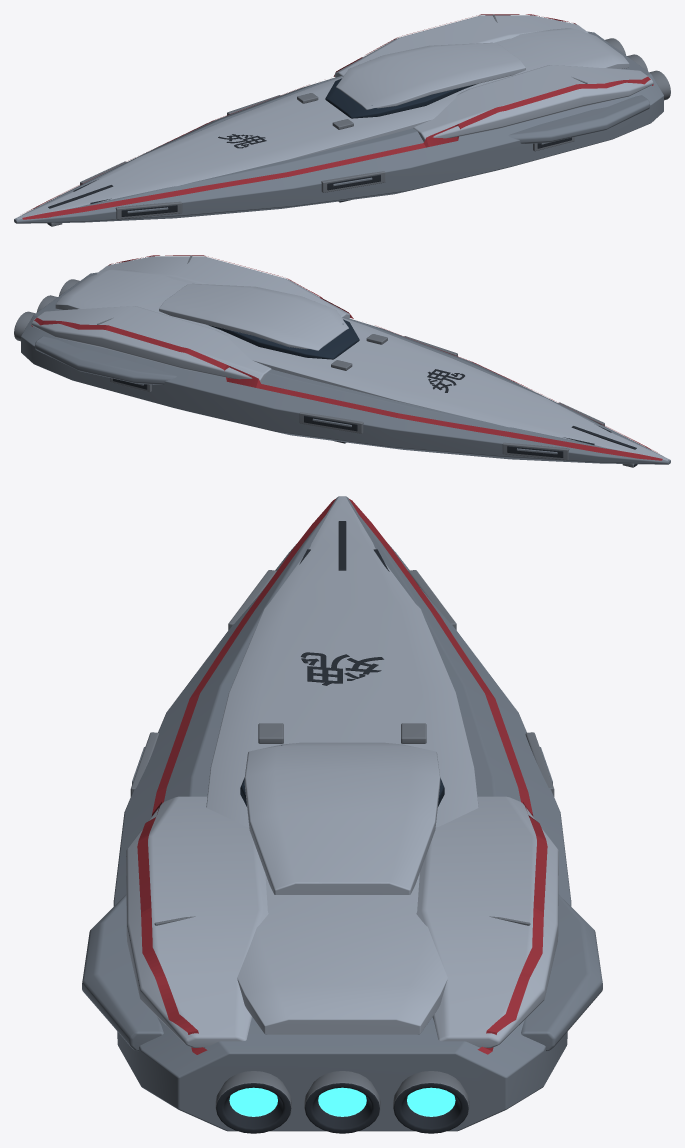
Rendered from wei-fast.glb.
3 views of the same model, one above another, from view 1: azimuth 30°, elevation 25°; view 2: azimuth 150°, elevation 25°; view 3: azimuth 270°, elevation 25° (orthographic). The views are drawn at different scales.
Visible parts, largest first — view 1: Continuous beveled cutter hull, Raised tapered silver foredeck, Faceted silver aft shoulder, Silver cockpit canopy, Faceted silver aft shoulder.001, Continuous hull-conforming oxblood stripe, Aft RCS shoulder fin, Swept cockpit glazing, Continuous hull-conforming oxblood stripe.001, Side equipment recess surround, Side equipment recess surround.001, Dark inset equipment recess (+2 smaller); view 2: Continuous beveled cutter hull, Raised tapered silver foredeck, Faceted silver aft shoulder.001, Silver cockpit canopy, Faceted silver aft shoulder, Continuous hull-conforming oxblood stripe.001, Aft RCS shoulder fin.001, Swept cockpit glazing, Continuous hull-conforming oxblood stripe, Side equipment recess surround.003, Side equipment recess surround.004, Foredeck Wei stencil (+2 smaller); view 3: Raised tapered silver foredeck, Continuous beveled cutter hull, Silver cockpit canopy, Faceted silver aft shoulder, Faceted silver aft shoulder.001, Aft RCS shoulder fin.001, Aft RCS shoulder fin, Continuous hull-conforming oxblood stripe.001, Continuous hull-conforming oxblood stripe, Triple inline aft booster, Triple inline aft booster.002, Triple inline aft booster.001 (+1 smaller).
Part boxes in pixels (x1,y1,x2,y2): Continuous beveled cutter hull: [14, 31, 663, 223]; Raised tapered silver foredeck: [16, 28, 629, 219]; Faceted silver aft shoulder: [413, 65, 653, 141]; Silver cockpit canopy: [336, 42, 525, 109]; Faceted silver aft shoulder.001: [335, 15, 588, 77]; Continuous hull-conforming oxblood stripe: [22, 76, 653, 219]; Aft RCS shoulder fin: [508, 95, 649, 143]; Swept cockpit glazing: [325, 78, 476, 118]; Continuous hull-conforming oxblood stripe.001: [26, 14, 576, 212]; Side equipment recess surround: [115, 201, 182, 219]; Side equipment recess surround.001: [321, 171, 385, 192]; Dark inset equipment recess: [121, 205, 177, 216]; Continuous beveled cutter hull: [21, 272, 670, 464]; Raised tapered silver foredeck: [55, 269, 668, 460]; Faceted silver aft shoulder.001: [31, 306, 271, 382]; Silver cockpit canopy: [159, 283, 348, 350]; Faceted silver aft shoulder: [96, 256, 349, 318]; Continuous hull-conforming oxblood stripe.001: [31, 317, 662, 460]; Aft RCS shoulder fin.001: [35, 336, 176, 384]; Swept cockpit glazing: [208, 319, 359, 359]; Continuous hull-conforming oxblood stripe: [108, 255, 657, 452]; Side equipment recess surround.003: [502, 442, 569, 460]; Side equipment recess surround.004: [299, 412, 363, 433]; Foredeck Wei stencil: [427, 369, 464, 392]; Raised tapered silver foredeck: [206, 496, 478, 1034]; Continuous beveled cutter hull: [113, 496, 571, 1131]; Silver cockpit canopy: [244, 742, 440, 894]; Faceted silver aft shoulder: [126, 796, 268, 1047]; Faceted silver aft shoulder.001: [416, 796, 558, 1047]; Aft RCS shoulder fin.001: [521, 894, 602, 1051]; Aft RCS shoulder fin: [82, 894, 163, 1051]; Continuous hull-conforming oxblood stripe.001: [349, 499, 547, 1054]; Continuous hull-conforming oxblood stripe: [137, 499, 335, 1054]; Triple inline aft booster: [215, 1071, 291, 1133]; Triple inline aft booster.002: [393, 1071, 469, 1133]; Triple inline aft booster.001: [304, 1071, 380, 1133].
Size of the model in its own units: 180 by 24 by 65.
